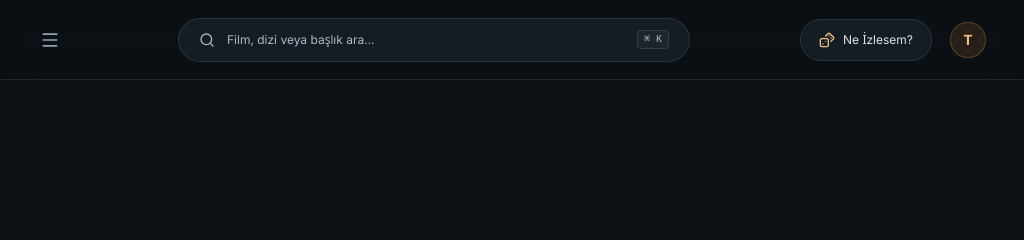
Navbar user menu › reports its expanded state
Click the button named "Kullanıcı Menüsü": (968, 40) 944,16 -> 992,64
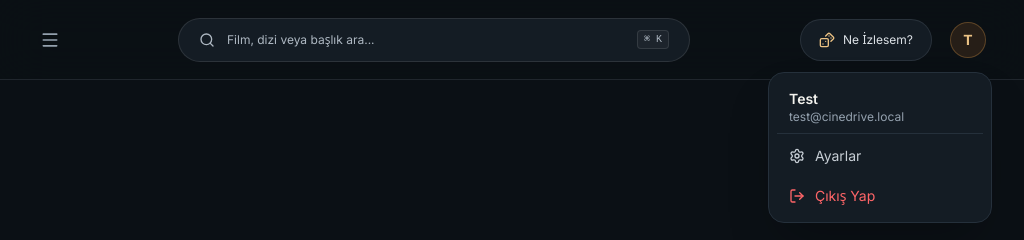
Check: the menu named "Kullanıcı Menüsü" is shown, box 768,72 -> 992,222
